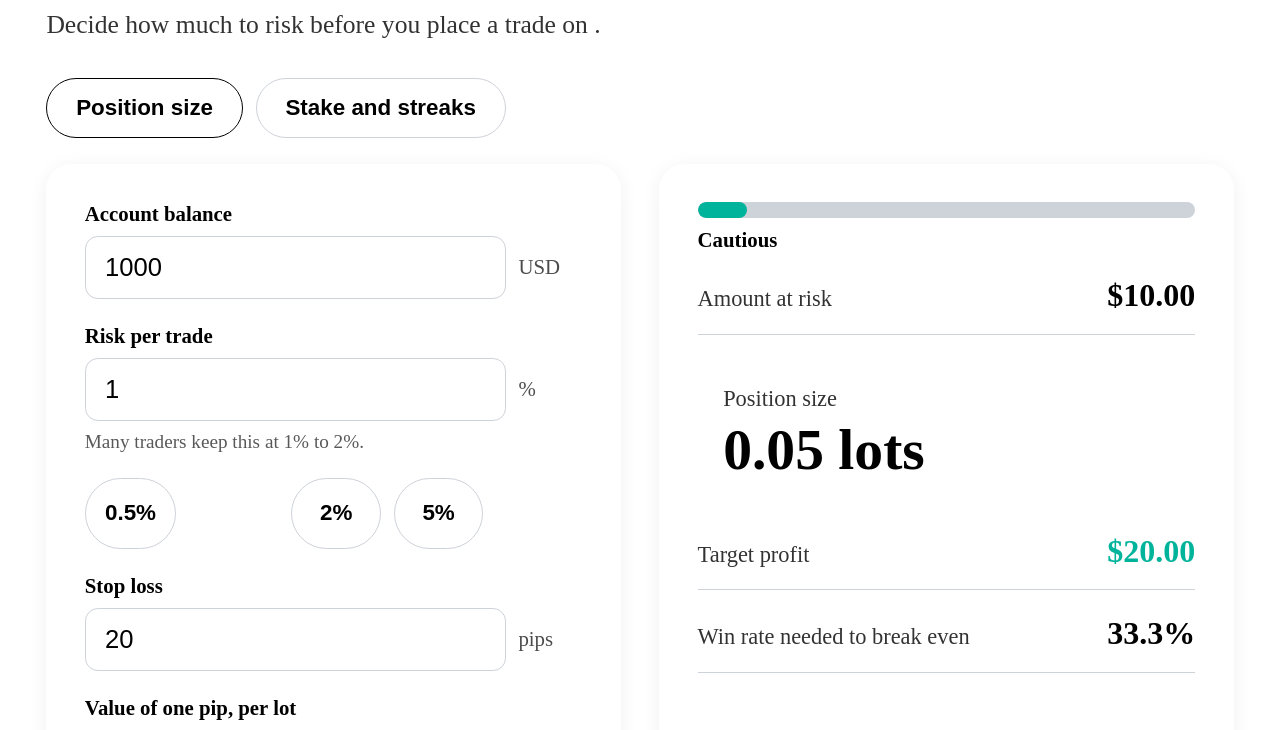
Test: <RiskCalculator /> › shows the stake plan, the losing streak table and the doubling warning on the stake tab
The width and height of the screenshot is (1280, 730).
Click the tab with test id "dt_risk_tab_stake".
click(381, 108)  # box [256,78,506,138]
(page scrolled)
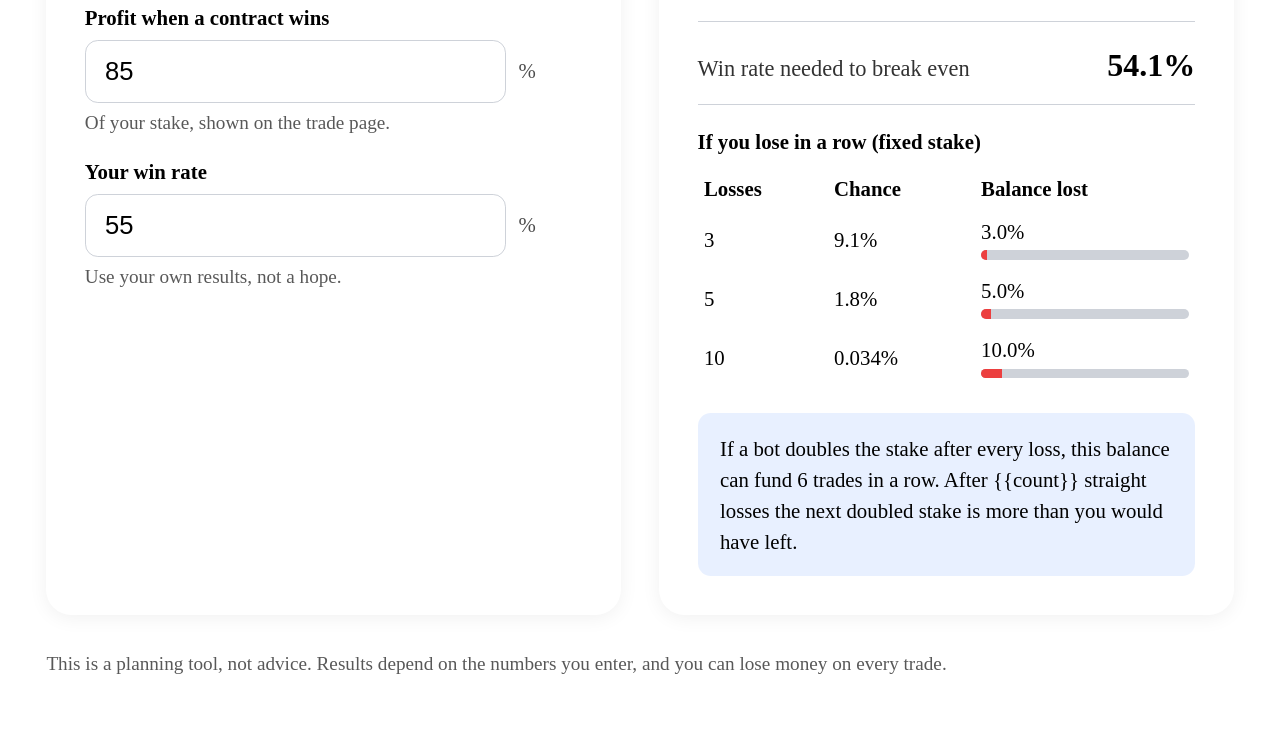
Expected: the text "If you lose in a row (fixed stake)" is shown, [698,130,981,153]
Expected: the text with test id "dt_risk_martingale" shows "fund 6 trades in a row", [720,436,1170,553]
